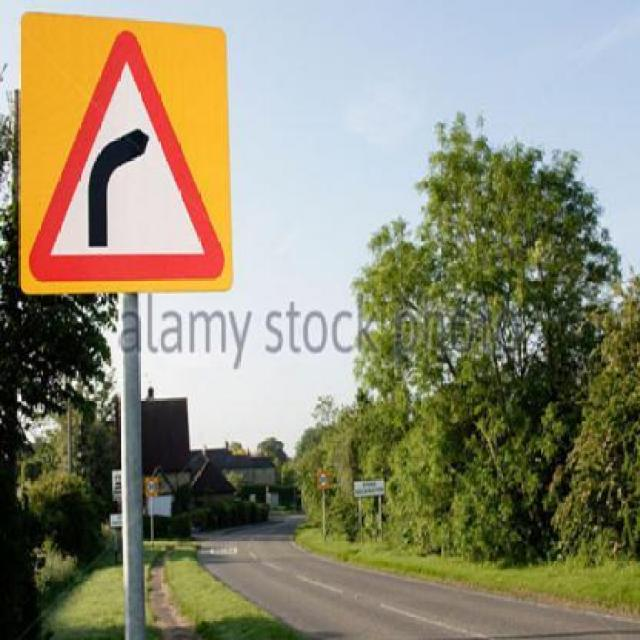traffic_sign: (30, 27, 225, 285)
